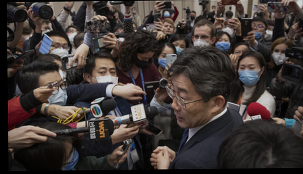mask_weared_incorrect: (250, 19, 264, 37)
with_mask: (42, 77, 69, 107), (91, 63, 119, 91), (58, 137, 80, 169), (237, 61, 261, 87), (270, 45, 289, 66), (49, 40, 70, 58), (156, 50, 175, 69), (132, 54, 154, 69), (193, 31, 212, 47), (67, 26, 81, 44), (214, 35, 231, 49), (171, 40, 187, 54), (56, 64, 68, 81), (262, 25, 274, 40), (220, 23, 234, 35), (40, 23, 51, 36), (189, 11, 197, 19), (163, 9, 171, 17), (131, 6, 137, 12)
without_mask: (169, 77, 212, 128), (232, 46, 250, 62), (162, 21, 174, 34)
